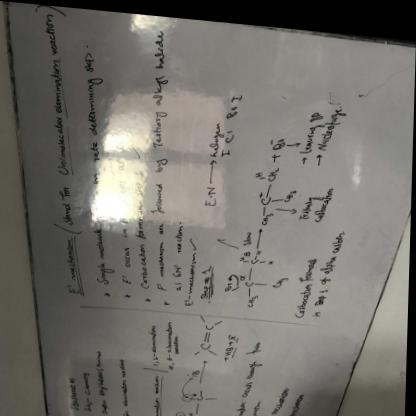Handwritten text: (76, 46, 118, 287), (39, 9, 78, 227), (144, 21, 171, 275), (290, 240, 324, 316), (133, 175, 154, 289), (115, 151, 134, 266), (64, 367, 84, 412)
Whiteboard: (0, 0, 416, 416)
